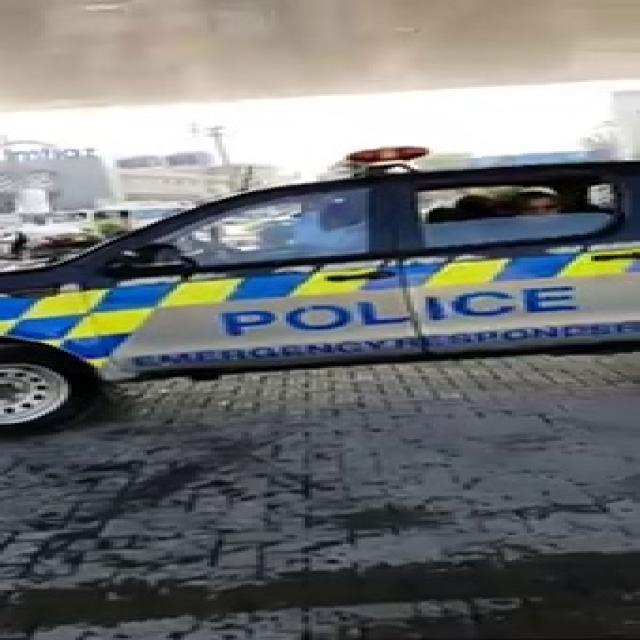police: (0, 120, 640, 374)
